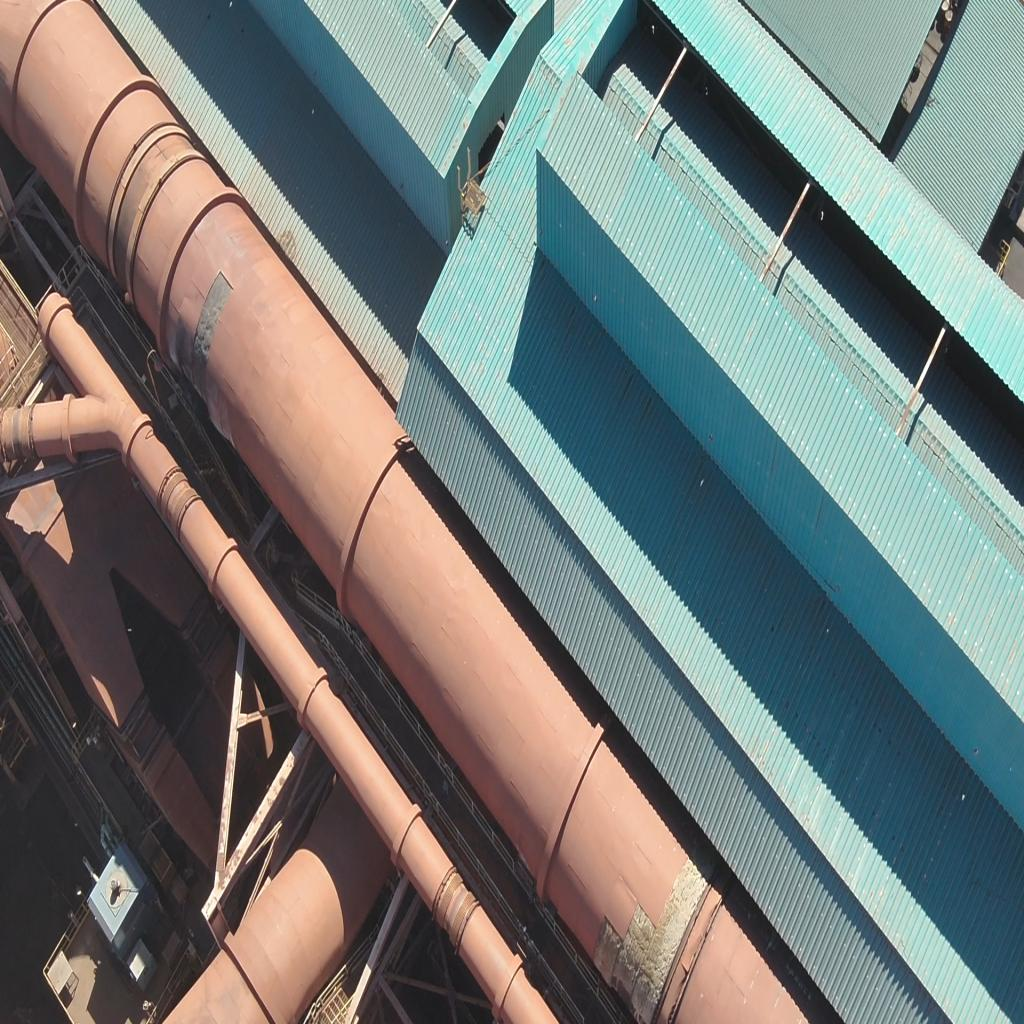Failures: (631, 852, 704, 1019), (190, 274, 235, 382), (614, 909, 655, 999), (594, 913, 622, 989)
